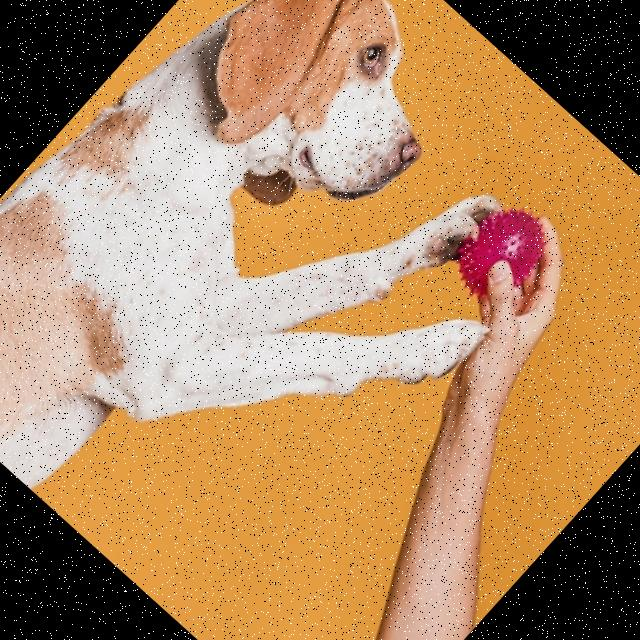Dog: (0, 0, 609, 640)
